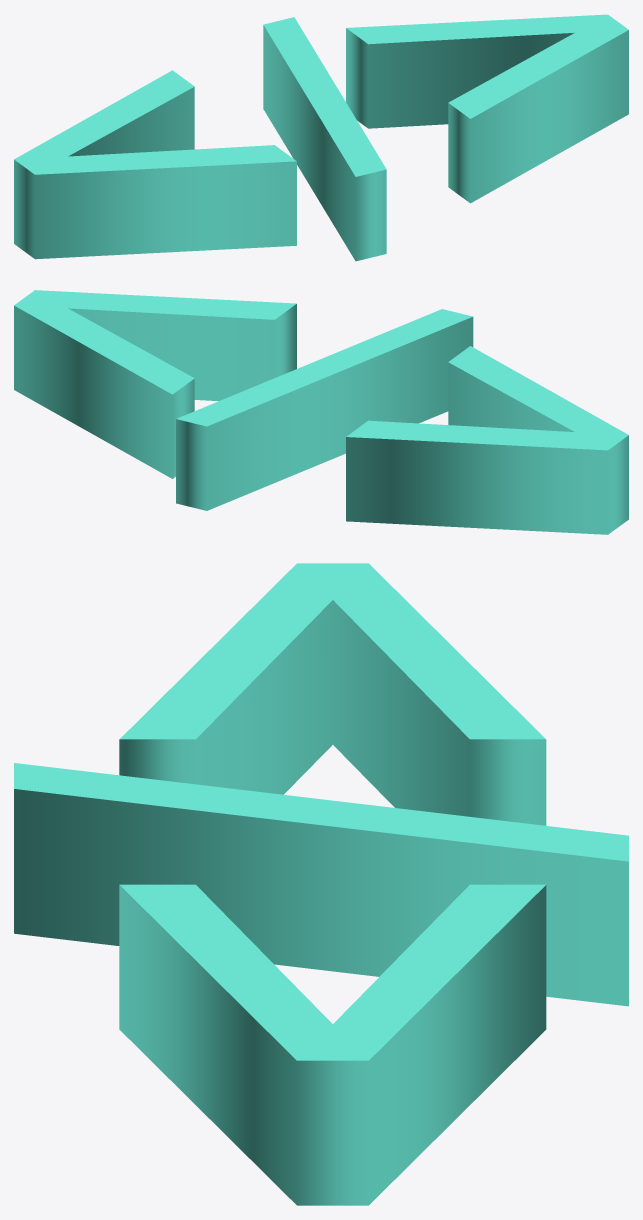
File: carots.gltf.glb
The picture shows the model from 3 angles, top to bottom: view 1: azimuth 30°, elevation 25°; view 2: azimuth 150°, elevation 25°; view 3: azimuth 270°, elevation 25°; orthographic projection. The views are drawn at different scales.
Parts seen in each view (by area): view 1: Text; view 2: Text; view 3: Text.
Boxes of the visible parts, bbox=[...] form: Text: bbox=[14, 14, 628, 261]; Text: bbox=[14, 290, 628, 534]; Text: bbox=[14, 563, 628, 1205].
Size of the model in its own units: 4.51 by 0.6131 by 2.36.
